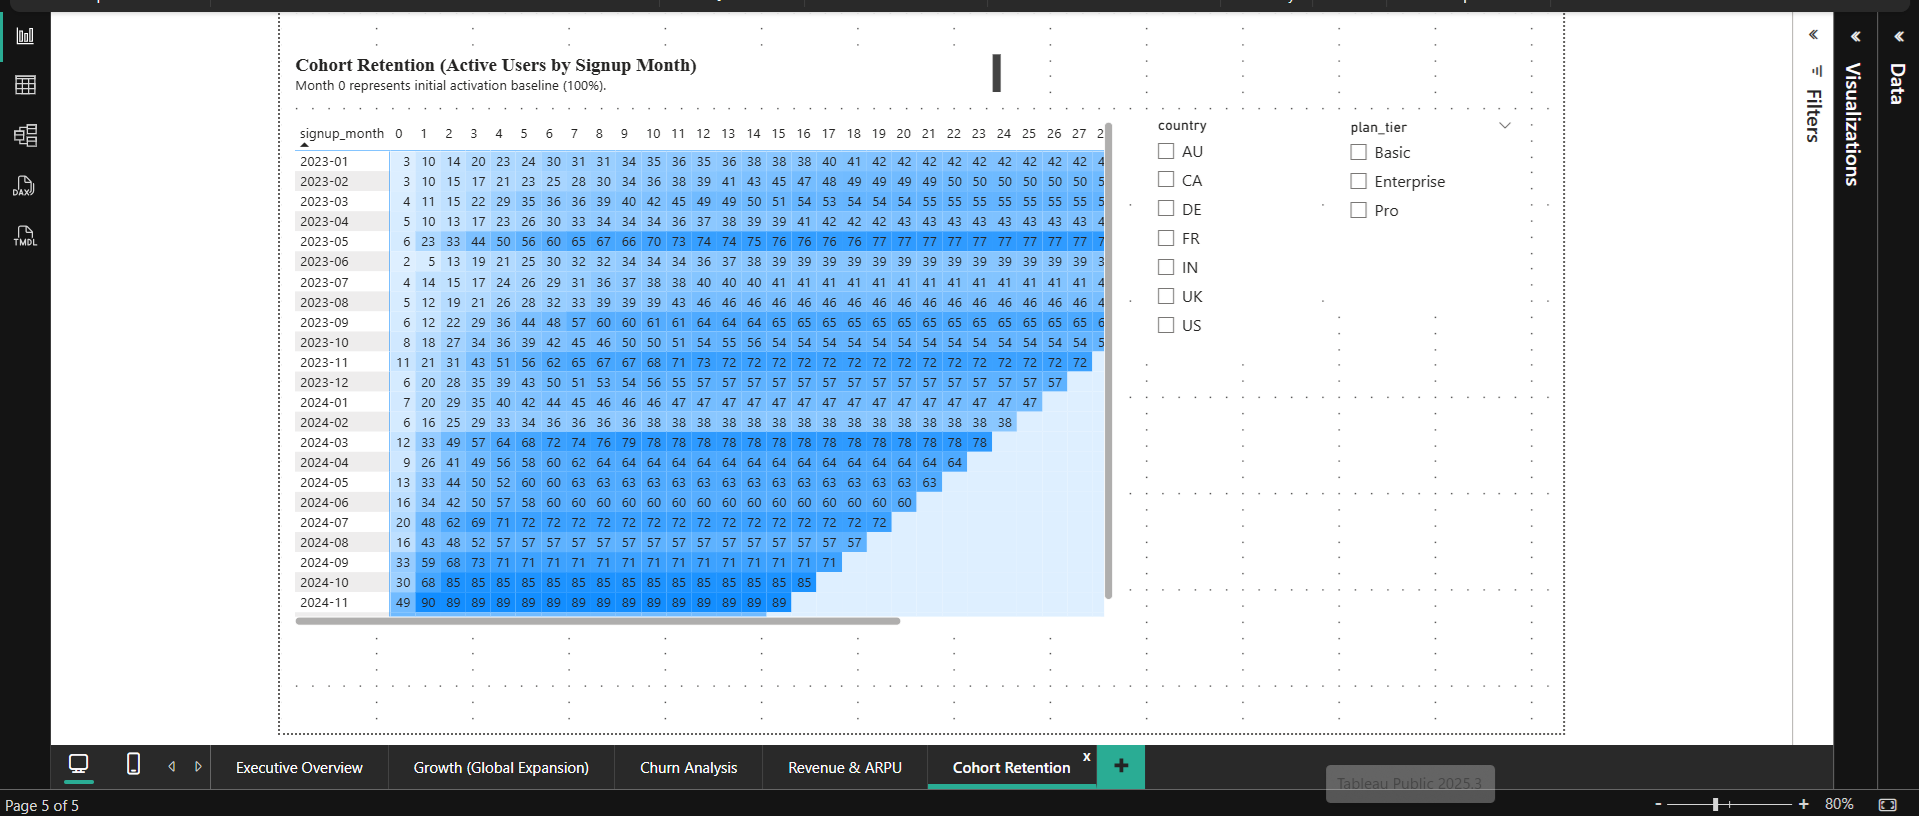

This screenshot's page, from the dashboard's own definition file:
{"tool":"powerbi","page":{"name":"Cohort Retention","canvas":[1280,720],"ordinal":4},"visuals":[{"type":"slicer","fields":{"Values":["subscriptions_enriched.country"]},"box":[862.6,100.2,173.9,247.7],"z":0},{"type":"slicer","fields":{"Values":["cohort_retention_sliced.plan_tier"]},"box":[1054.5,100.4,186.2,194.9],"z":1000},{"type":"textbox","box":[10.2,37.8,714.2,48],"z":2000},{"type":"pivotTable","fields":{"Rows":["cohort_retention_sliced.signup_month"],"Values":["Sum(cohort_retention_sliced.active_users)"],"Columns":["cohort_retention_sliced.months_since_signup"]},"box":[10.3,104.9,825.6,512.5],"z":3000}]}

Visuals, with their boxes on the page's 1280x720 design canvas (x1, y1, x2, y2). These are canvas units, not pixel positions in the 1919x816 screenshot, which may show the page scaled, cropped or inside an application window:
slicer - subscriptions_enriched.country: bbox=(863, 100, 1036, 348)
slicer - cohort_retention_sliced.plan_tier: bbox=(1054, 100, 1241, 295)
textbox: bbox=(10, 38, 724, 86)
pivotTable - cohort_retention_sliced.signup_month x Sum(cohort_retention_sliced.active_users): bbox=(10, 105, 836, 617)
